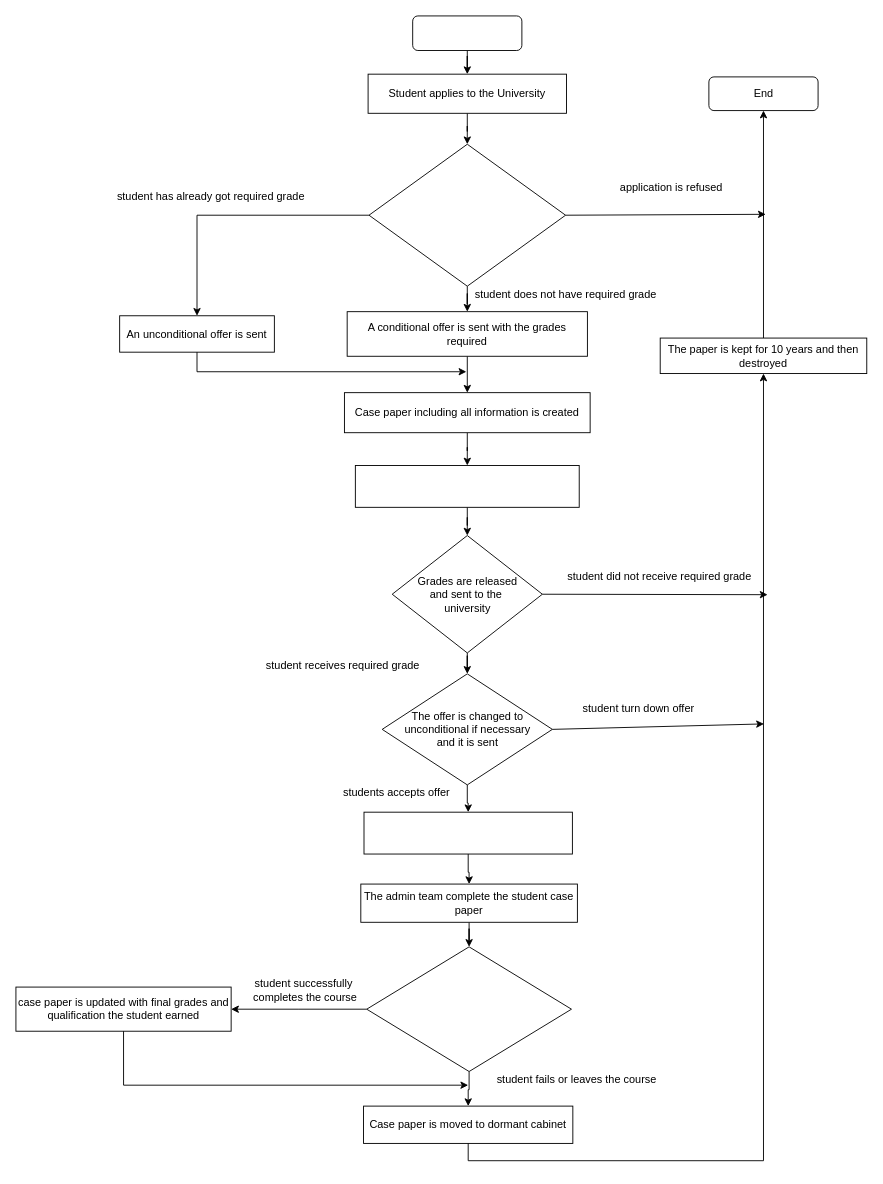
Some shapes in this 883 by 1184 pixel diagram are drawn without their labels. The shapes that lost their labels are listed below. From the top down, each one's centre as x and y in pixels, then its label:
At point 467,33: "Start".
At point 467,214: "The application is accessed by the admission team".
At point 466,486: "paper is stored in a provisional filing cabinet".
At point 467,832: "Student arrives at the university to enroll".
At point 468,1009: "case paper is moved to the live cabinet with live heading and stored there".
